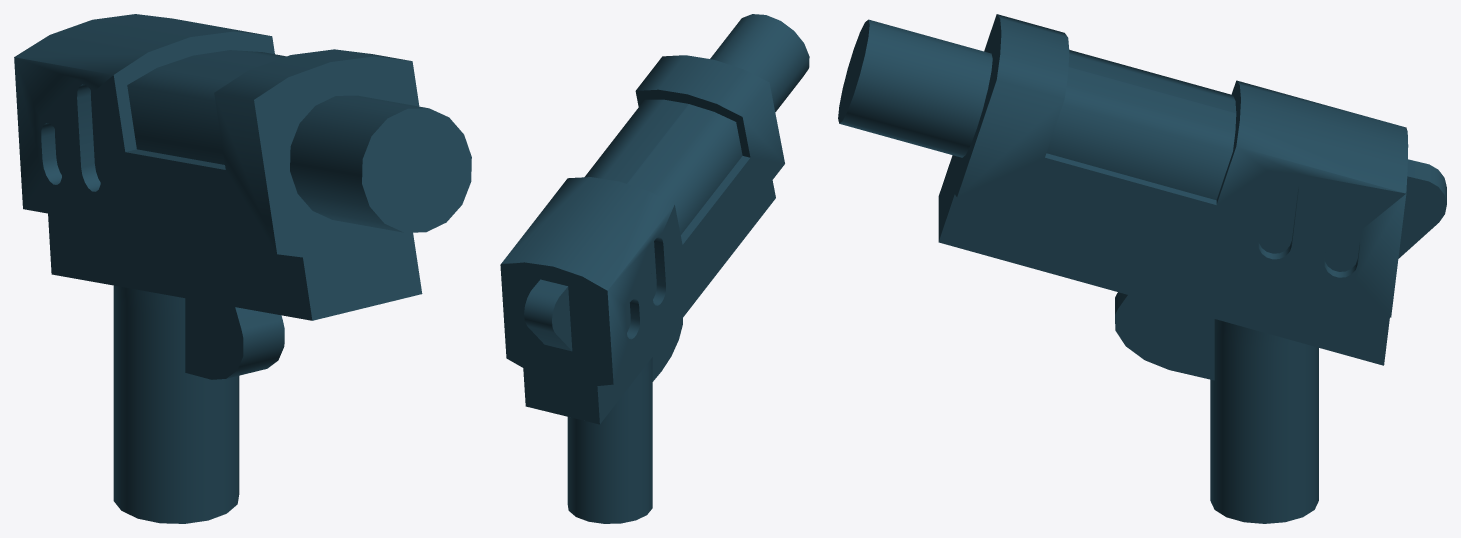
File: Submachine Gun.dae
3 renders of one model, left to right at view 1: azimuth 30°, elevation 25°; view 2: azimuth 150°, elevation 25°; view 3: azimuth 270°, elevation 25°, orthographic. The views are drawn at different scales.
Parts seen in each view (by area): view 1: Object; view 2: Object; view 3: Object.
Part boxes in pixels (bbox=[...]): Object: bbox=[14, 14, 471, 523]; Object: bbox=[500, 14, 809, 523]; Object: bbox=[838, 14, 1446, 523].
Bounding box in the file's own units: 4.62 × 17.98 × 15.52.
